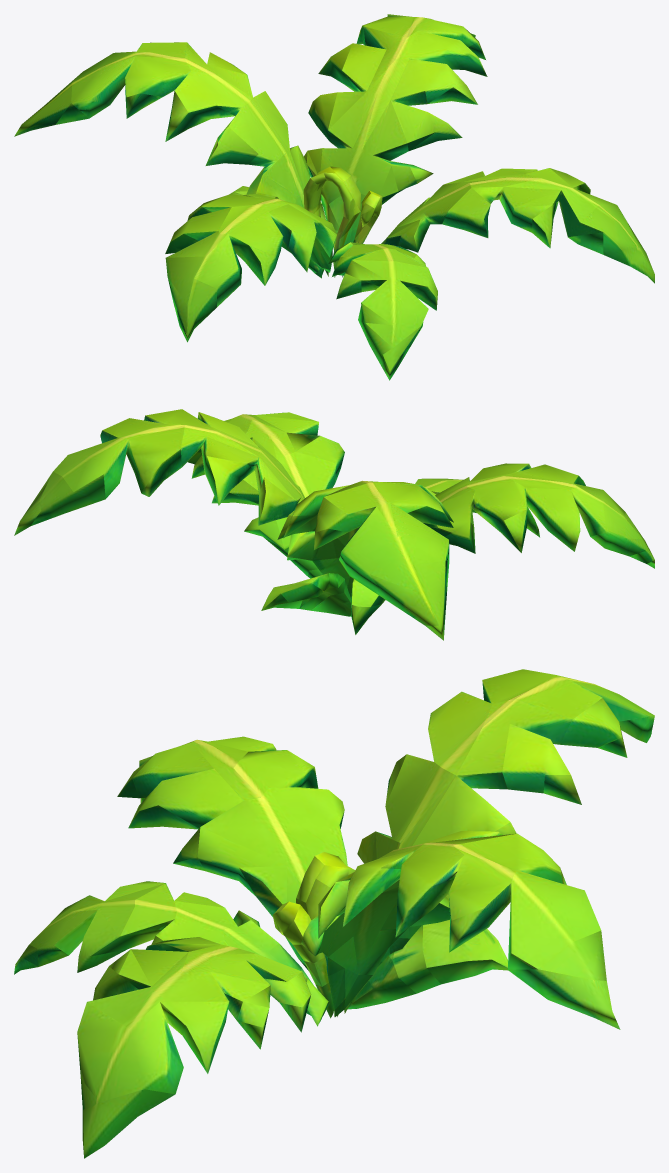
File: fern.glb
3 renders of one model, top to bottom at view 1: azimuth 30°, elevation 25°; view 2: azimuth 150°, elevation 25°; view 3: azimuth 270°, elevation 25°, orthographic. The views are drawn at different scales.
Visible parts, largest first — view 1: fern; view 2: fern; view 3: fern.
Boxes of the visible parts, bbox=[...] form: fern: bbox=[14, 14, 654, 380]; fern: bbox=[14, 409, 654, 640]; fern: bbox=[14, 669, 654, 1158].
Size of the model in its own units: 1 by 0.416 by 0.9102.
Materials: 1 (1 with a texture image).
